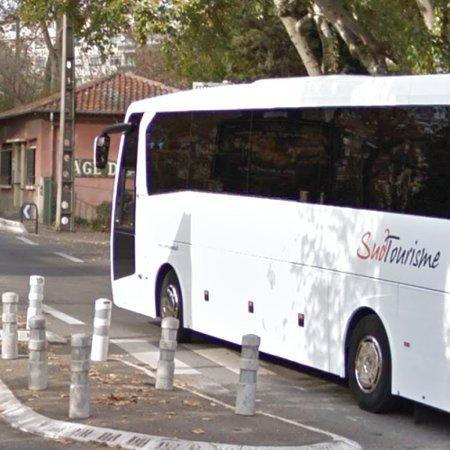buses: (95, 75, 450, 413)
